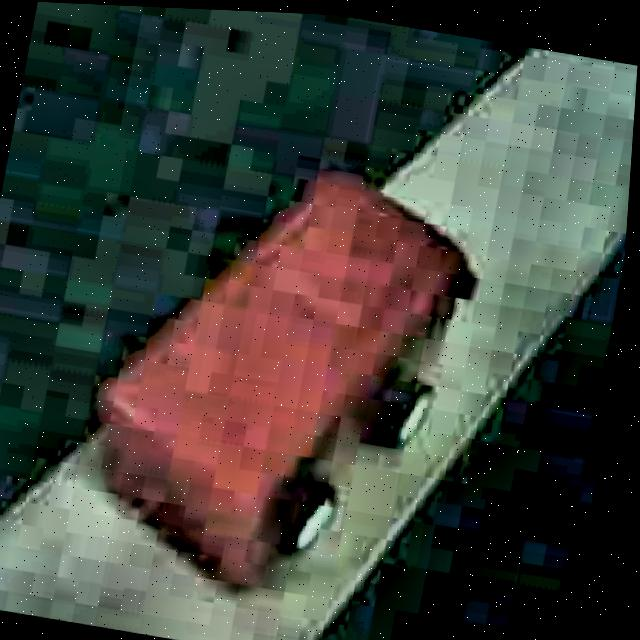bus: (61, 133, 500, 622)
